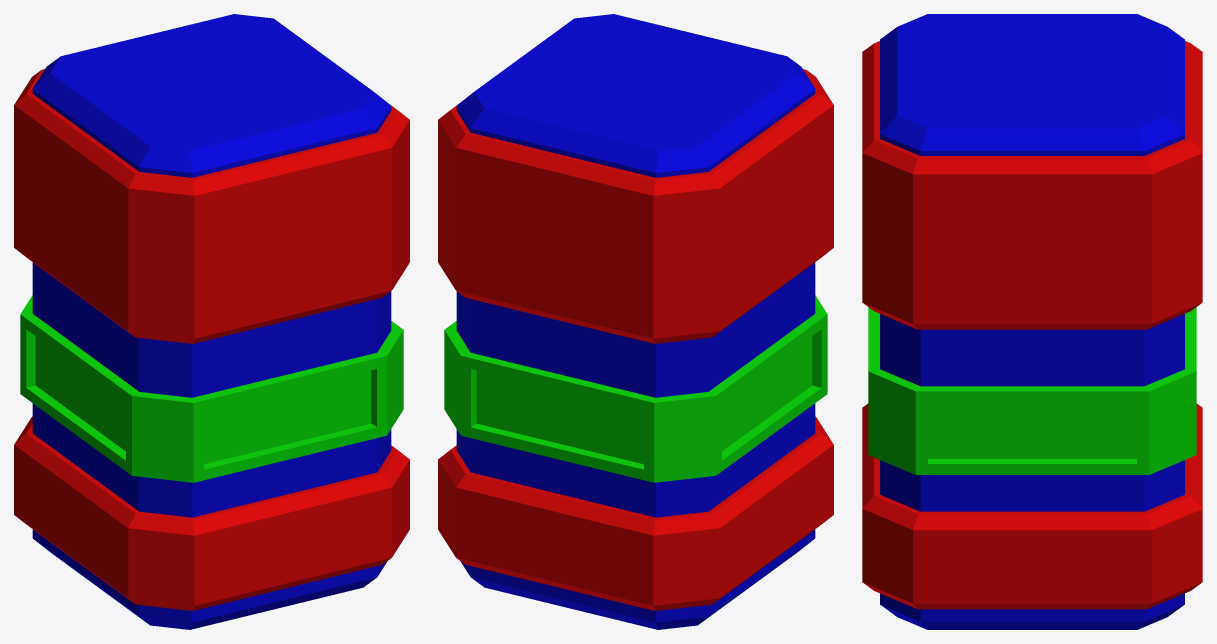
The model's file is Sci_Fi_Crate_02.fbx.
3 views of the same model, side by side, from view 1: azimuth 30°, elevation 25°; view 2: azimuth 150°, elevation 25°; view 3: azimuth 270°, elevation 25° (orthographic). The views are drawn at different scales.
Visible parts, largest first — view 1: Sci-Fi Crate_02; view 2: Sci-Fi Crate_02; view 3: Sci-Fi Crate_02.
Boxes of the visible parts, x1,y1,x2,y2 form: Sci-Fi Crate_02: (14, 14, 409, 629); Sci-Fi Crate_02: (438, 14, 833, 629); Sci-Fi Crate_02: (862, 14, 1202, 629).
Size of the model in its own units: 34.29 by 55.74 by 34.29.
